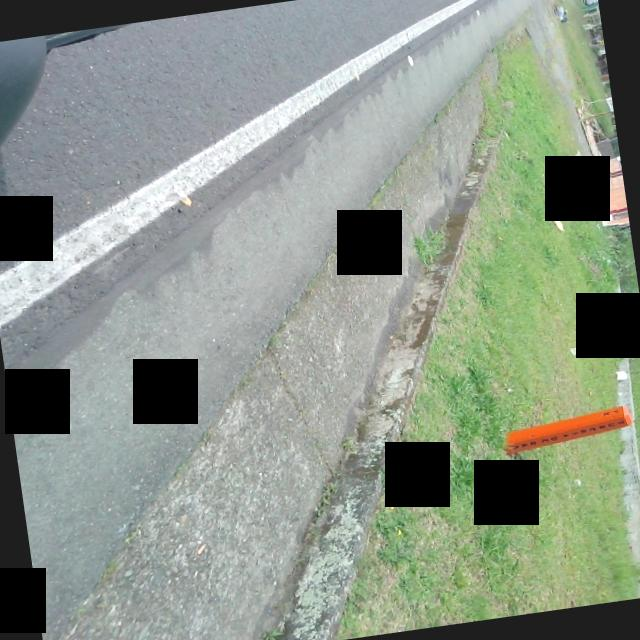DITCH: (0, 0, 640, 640), (0, 0, 604, 640)
